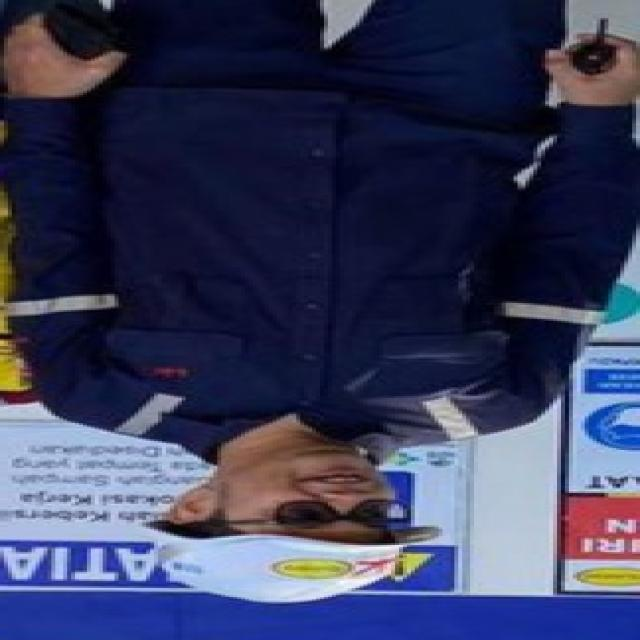safetyhelmet: (119, 462, 442, 603)
